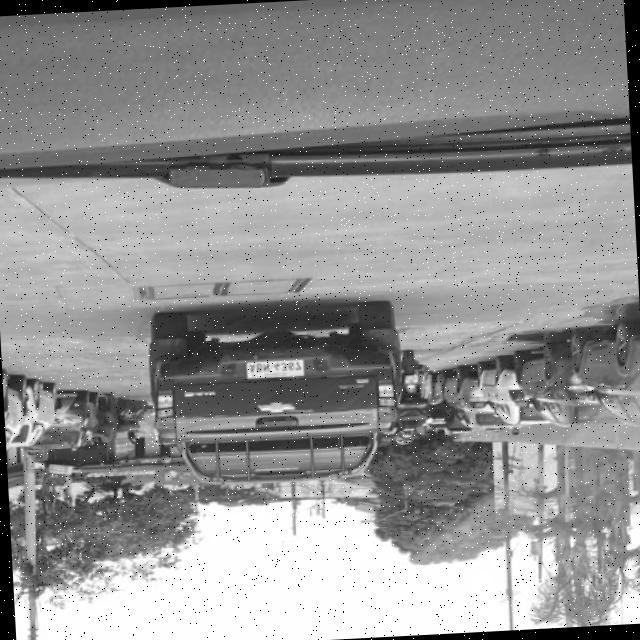Placa: (246, 361, 303, 379)
